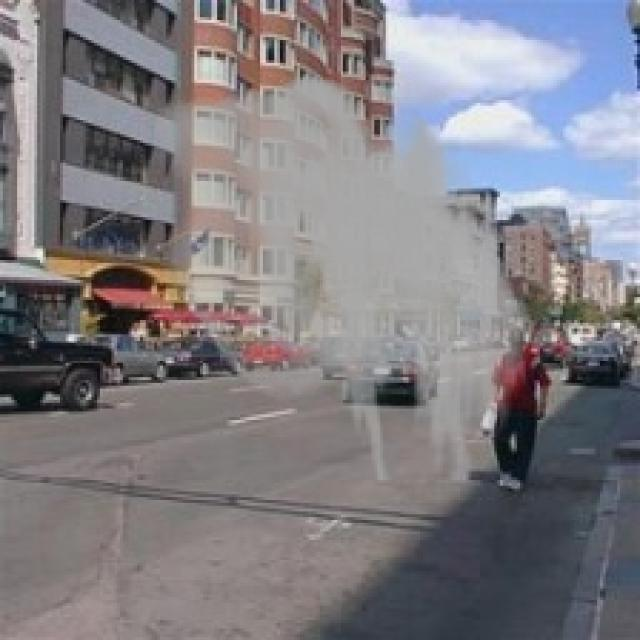smoke: (152, 74, 537, 486)
